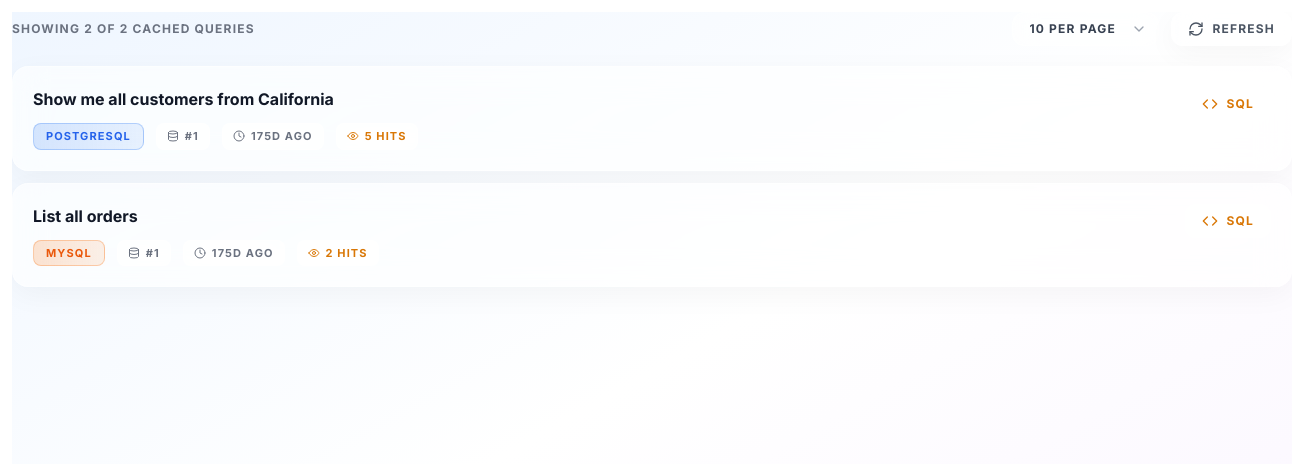
it: RecentCachedQueries › expands SQL when SQL button clicked
Step 1. Click the button "SQL" in the row of "Show me all customers from California" → (1228, 104), box [1185,87,1271,121]
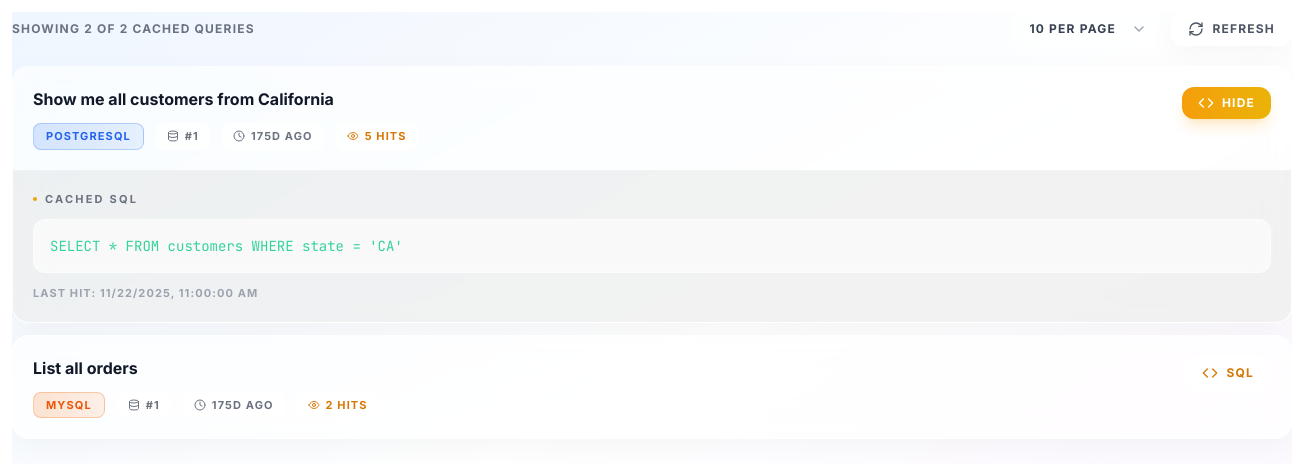
Expected: the text "SELECT * FROM customers WHERE state = 'CA'" is shown, [33,219,1271,273]
